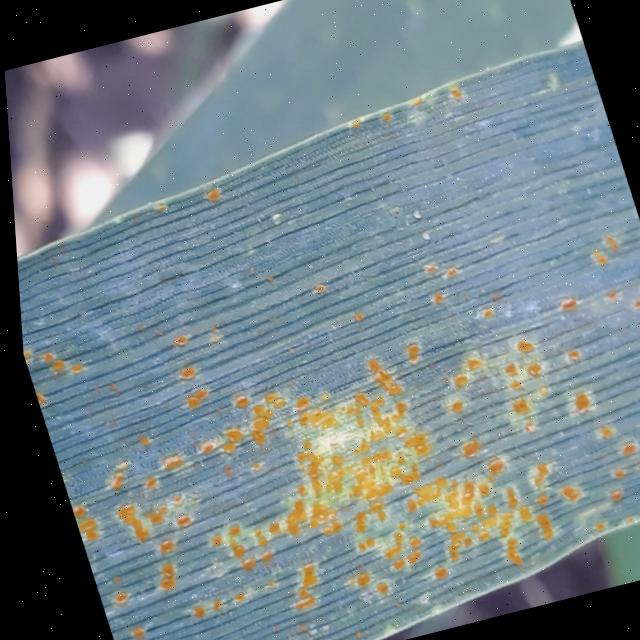orang_rust: (1, 21, 640, 640)
